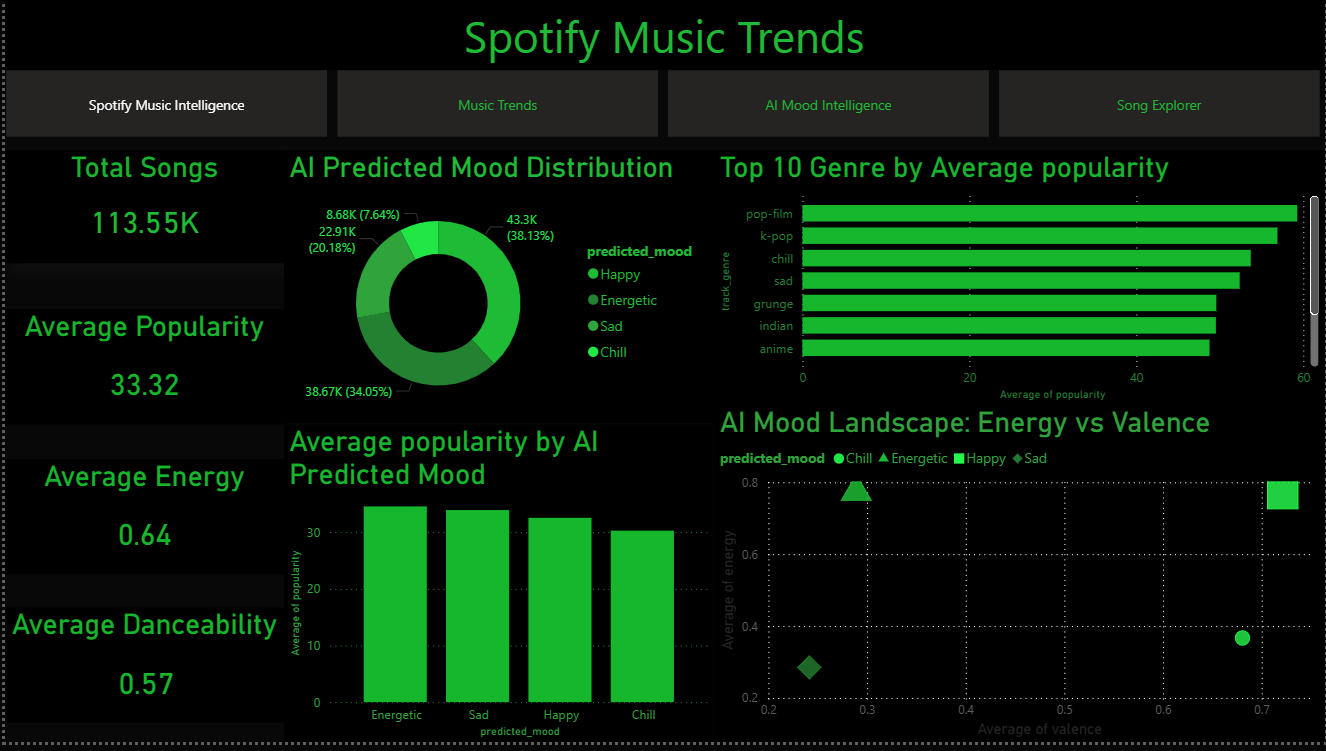

Layout of this report page (visuals, bound fields, positions):
{"tool":"powerbi","page":{"name":"Spotify Music Intelligence","canvas":[1280,720],"ordinal":0},"visuals":[{"type":"card","title":"Total Songs","fields":{"Values":["CountNonNull(spotify_mood_prediction.track_id)"]},"box":[0,145.7,270.4,110.1],"z":0},{"type":"card","title":"Average Popularity","fields":{"Values":["Avg(spotify_mood_prediction.popularity)"]},"box":[0,299.6,270.4,111.7],"z":1000},{"type":"card","title":"Average Energy","fields":{"Values":["Avg(spotify_mood_prediction.energy)"]},"box":[0,445.3,270.4,111.7],"z":2000},{"type":"card","title":"Average Danceability","fields":{"Values":["Avg(spotify_mood_prediction.danceability)"]},"box":[1.6,589.4,270.4,111.7],"z":3000},{"type":"donutChart","title":"AI Predicted Mood Distribution","fields":{"Category":["spotify_mood_prediction.predicted_mood"],"Y":["CountNonNull(spotify_mood_prediction.track_id)"]},"box":[270.4,145.7,417.8,265.6],"z":4000},{"type":"clusteredBarChart","title":"Top 10 Genre by Average  popularity","fields":{"Category":["spotify_mood_prediction.track_genre"],"Y":["Avg(spotify_mood_prediction.popularity)"]},"box":[688.2,145.7,591,247.7],"z":5000},{"type":"scatterChart","title":"AI Mood Landscape: Energy vs Valence","fields":{"X":["Avg(spotify_mood_prediction.valence)"],"Y":["Avg(spotify_mood_prediction.energy)"],"Series":["spotify_mood_prediction.predicted_mood"],"Size":["Sum(spotify_mood_prediction.popularity)"]},"box":[687.9,393.1,591.5,326.9],"z":6000},{"type":"clusteredColumnChart","title":"Average popularity by AI Predicted Mood","fields":{"Y":["Avg(spotify_mood_prediction.popularity)"],"Category":["spotify_mood_prediction.predicted_mood"]},"box":[270.2,412,417.6,308],"z":7000},{"type":"textbox","box":[0,0,1279.2,68],"z":8000},{"type":"pageNavigator","box":[1.6,68,1277.6,64.8],"z":9000},{"type":"image","box":[365.9,9.7,77.7,50.2],"z":9001}]}

Visuals, with their boxes in screenshot pixels (x1, y1, x2, y2), scaled from the page's 1280x720 canvas onto the 1326x751 screenshot:
"Total Songs" card: region(0, 152, 280, 267)
"Average Popularity" card: region(0, 312, 280, 429)
"Average Energy" card: region(0, 464, 280, 581)
"Average Danceability" card: region(2, 615, 282, 731)
"AI Predicted Mood Distribution" donutChart: region(280, 152, 713, 429)
"Top 10 Genre by Average  popularity" clusteredBarChart: region(713, 152, 1325, 410)
"AI Mood Landscape: Energy vs Valence" scatterChart: region(713, 410, 1325, 750)
"Average popularity by AI Predicted Mood" clusteredColumnChart: region(280, 430, 713, 750)
textbox: region(0, 0, 1325, 71)
pageNavigator: region(2, 71, 1325, 139)
image: region(379, 10, 460, 62)
